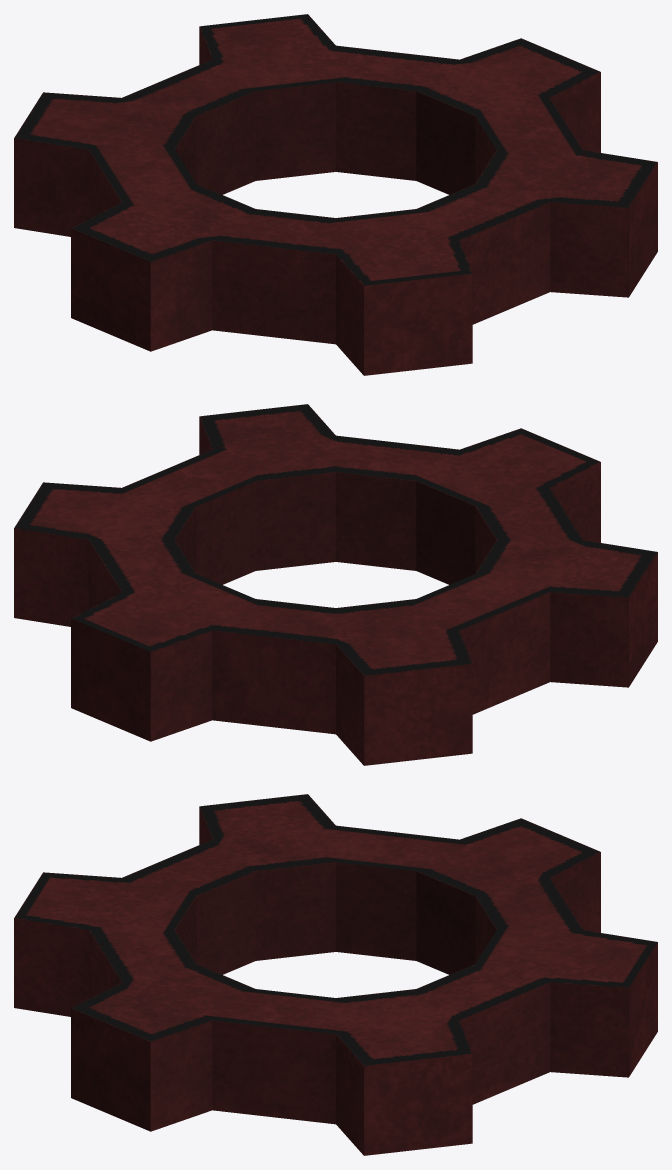
File: gear.obj
3 views of the same model, one above another, from view 1: azimuth 30°, elevation 25°; view 2: azimuth 150°, elevation 25°; view 3: azimuth 270°, elevation 25° (orthographic).
Parts seen in each view (by area): view 1: Circle; view 2: Circle; view 3: Circle.
Boxes of the visible parts, x1=… form: Circle: x1=14, y1=14, x2=657, y2=375; Circle: x1=14, y1=404, x2=657, y2=765; Circle: x1=14, y1=794, x2=657, y2=1155.
Size of the model in its own units: 2.6 by 0.4 by 2.6.
Materials: 1 (1 with a texture image).
